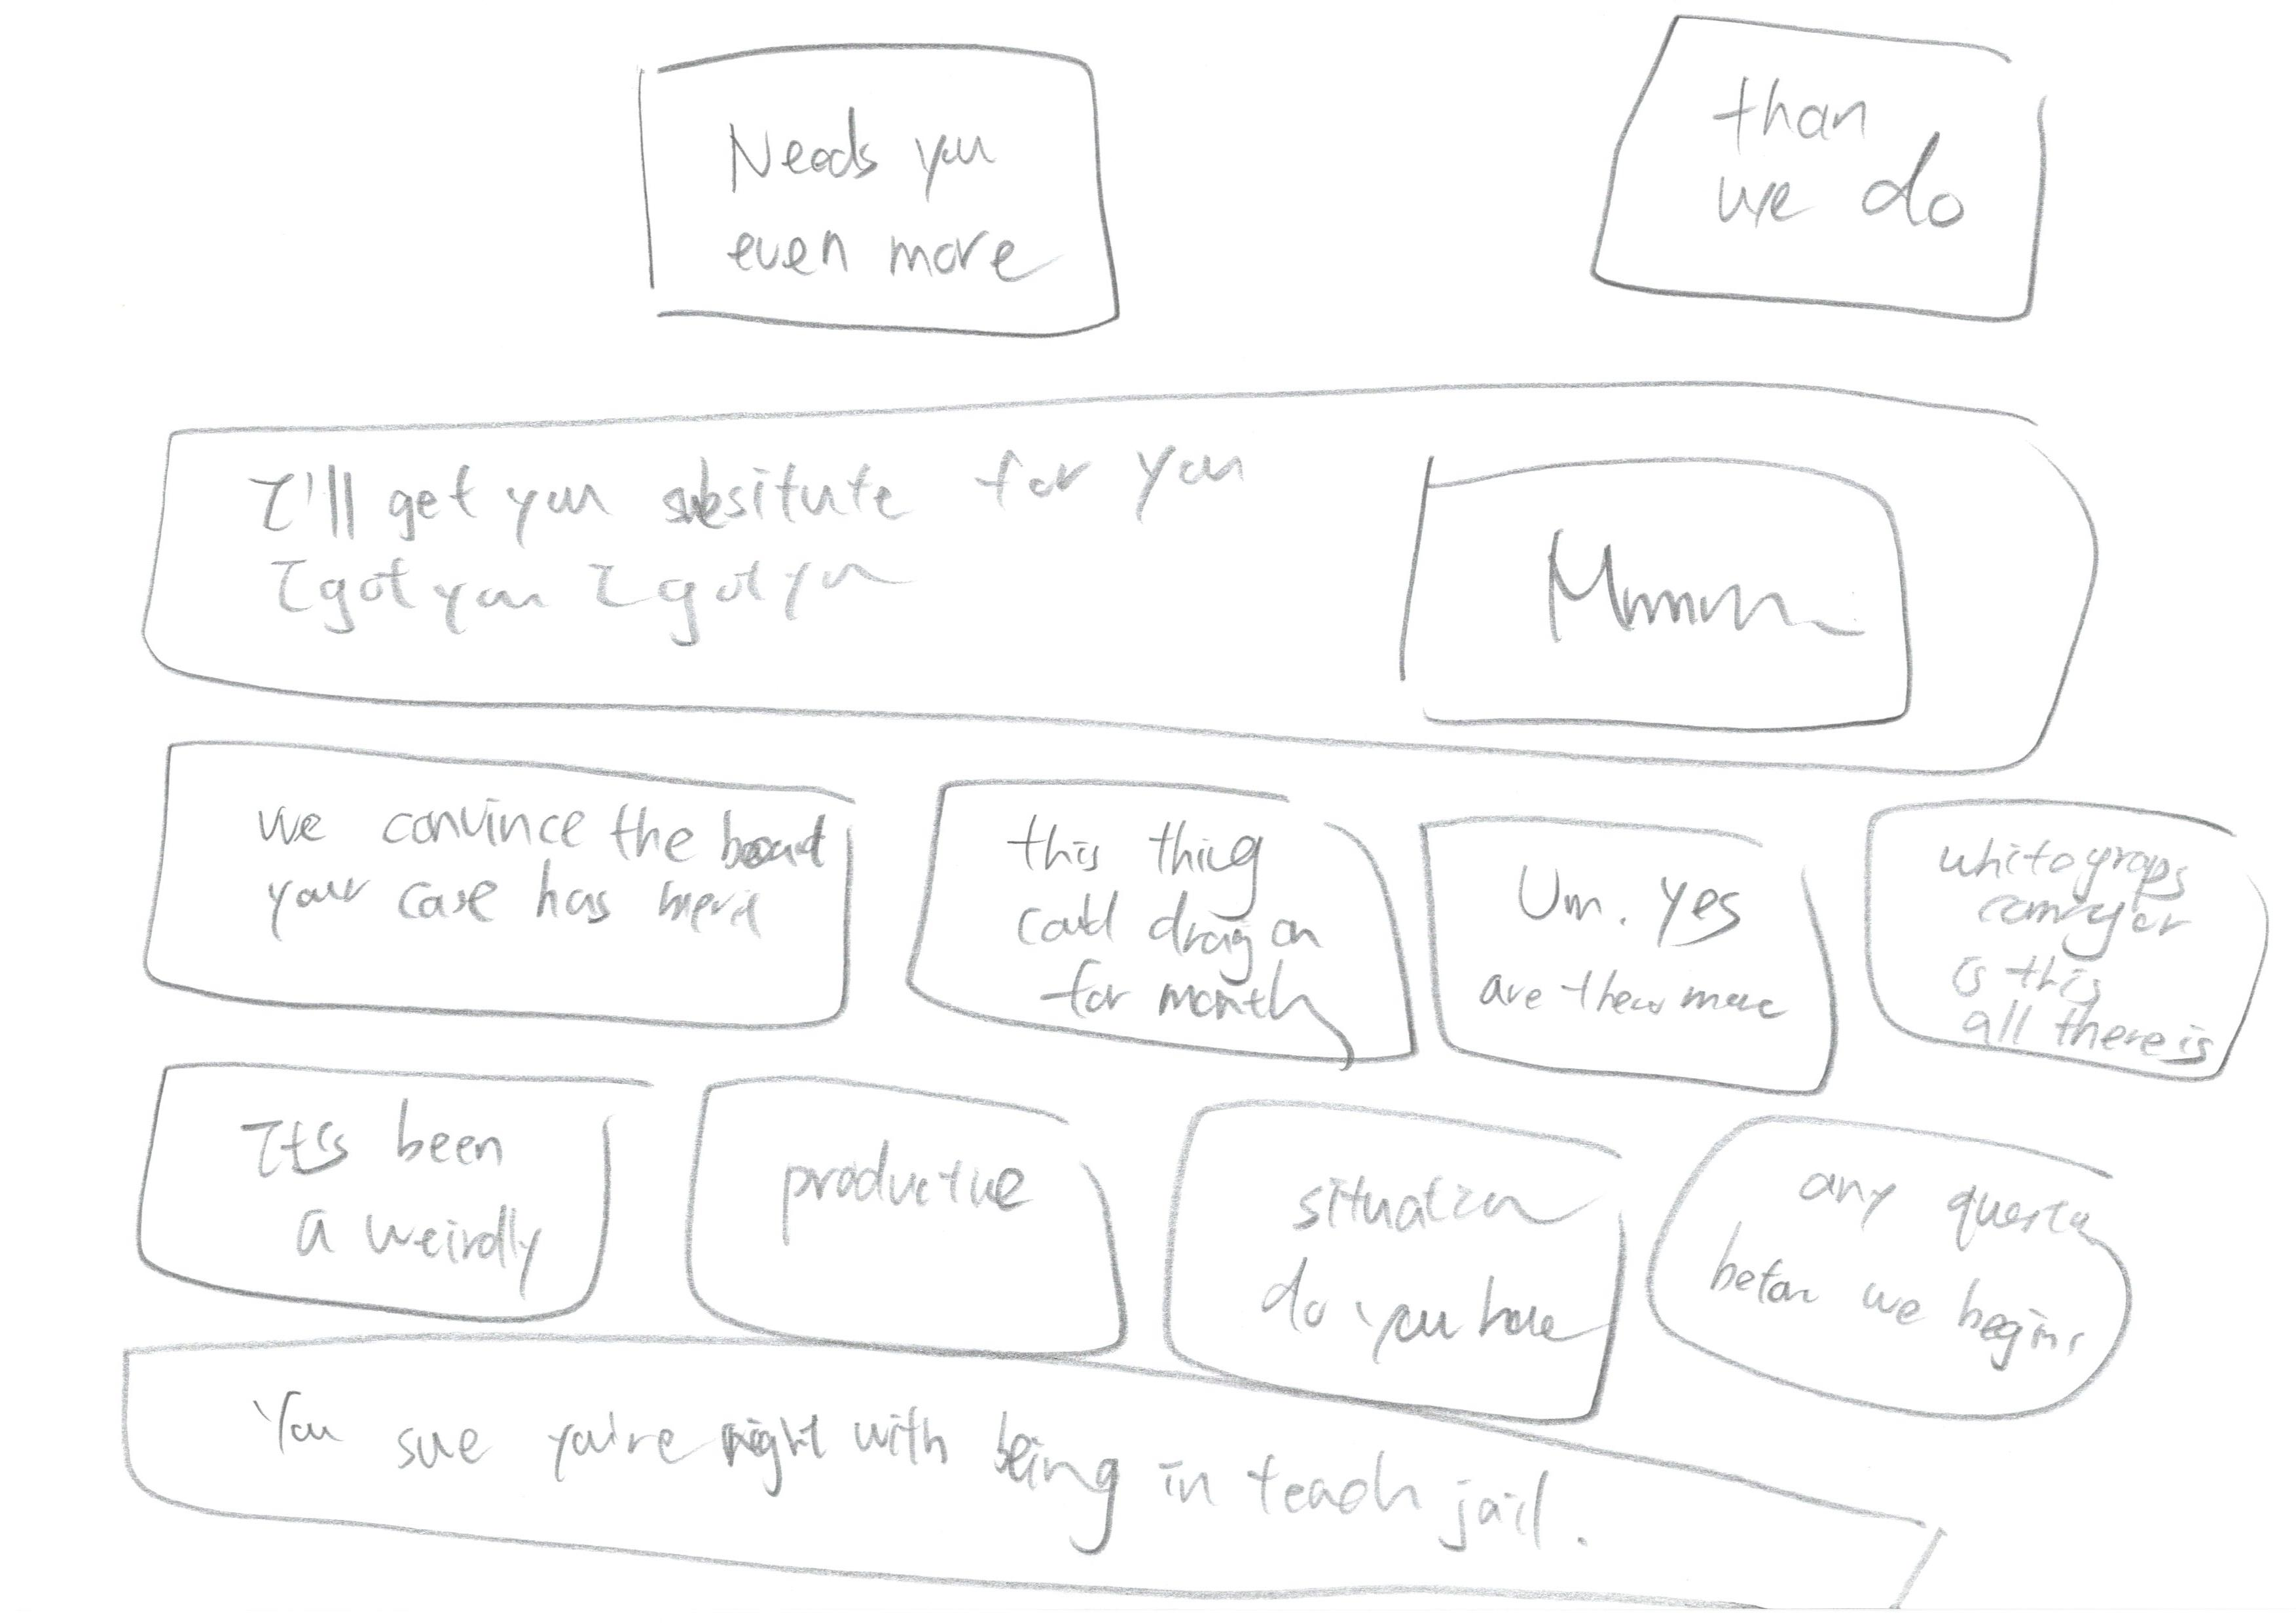btn-active: (1528, 7, 2180, 344), (594, 40, 1201, 374), (1377, 434, 1967, 754)
quadruple: (40, 707, 912, 1056), (856, 747, 1463, 1097), (1122, 1077, 1663, 1431), (1623, 1102, 2164, 1455), (90, 1044, 673, 1355), (638, 1060, 1171, 1381), (1821, 773, 2292, 1106), (1392, 775, 1862, 1106)
row: (28, 1019, 2296, 1468), (28, 367, 2296, 793), (28, 726, 2291, 1125), (28, 0, 2296, 371), (19, 1336, 2296, 1624)
single: (60, 366, 2213, 796), (74, 1330, 2270, 1624)
text: (207, 1374, 1607, 1573), (213, 796, 814, 963), (1726, 1158, 2078, 1371), (1255, 1130, 1559, 1357), (1000, 807, 1319, 1023), (1948, 844, 2233, 1062), (1480, 854, 1760, 1037), (241, 1107, 527, 1271), (763, 1132, 1062, 1274)
